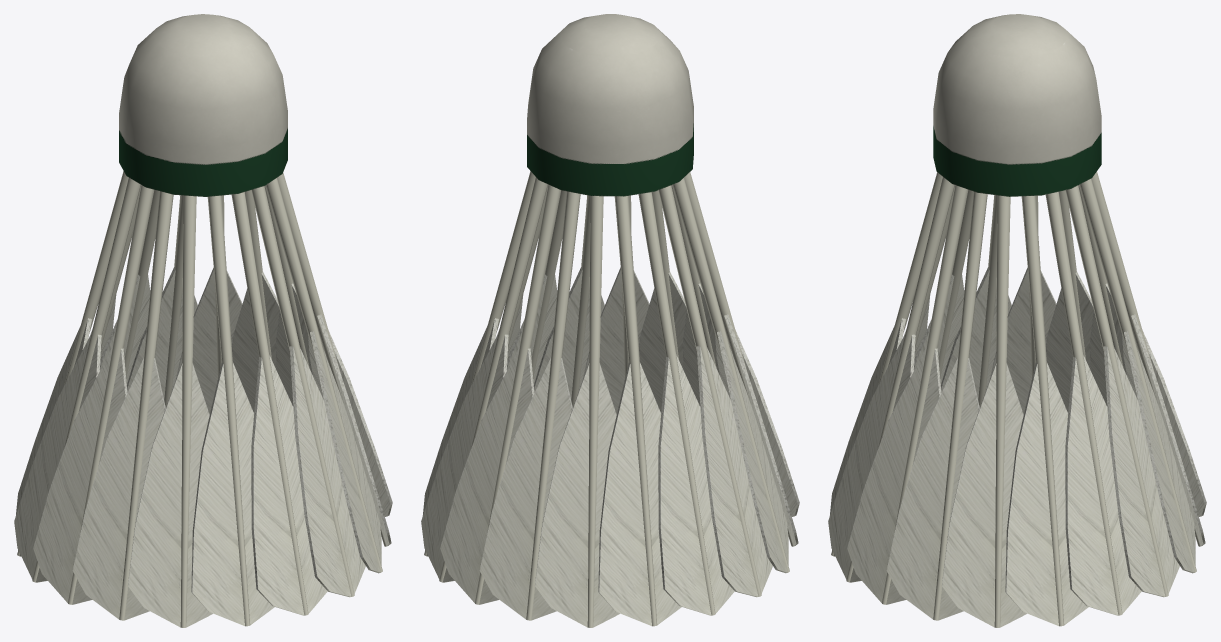
Rendered from shuttlecock.FBX.
The picture shows the model from 3 angles, left to right: view 1: azimuth 30°, elevation 25°; view 2: azimuth 150°, elevation 25°; view 3: azimuth 270°, elevation 25°; orthographic projection.
Parts seen in each view (by area): view 1: shuttlecock; view 2: shuttlecock; view 3: shuttlecock.
Part boxes in pixels (x1,y1,x2,y2): shuttlecock: (14,14,392,627); shuttlecock: (421,14,799,627); shuttlecock: (828,14,1206,627).
Bounding box in the file's own units: 9.33 × 14.22 × 9.29.
1 material, 1 textured.
